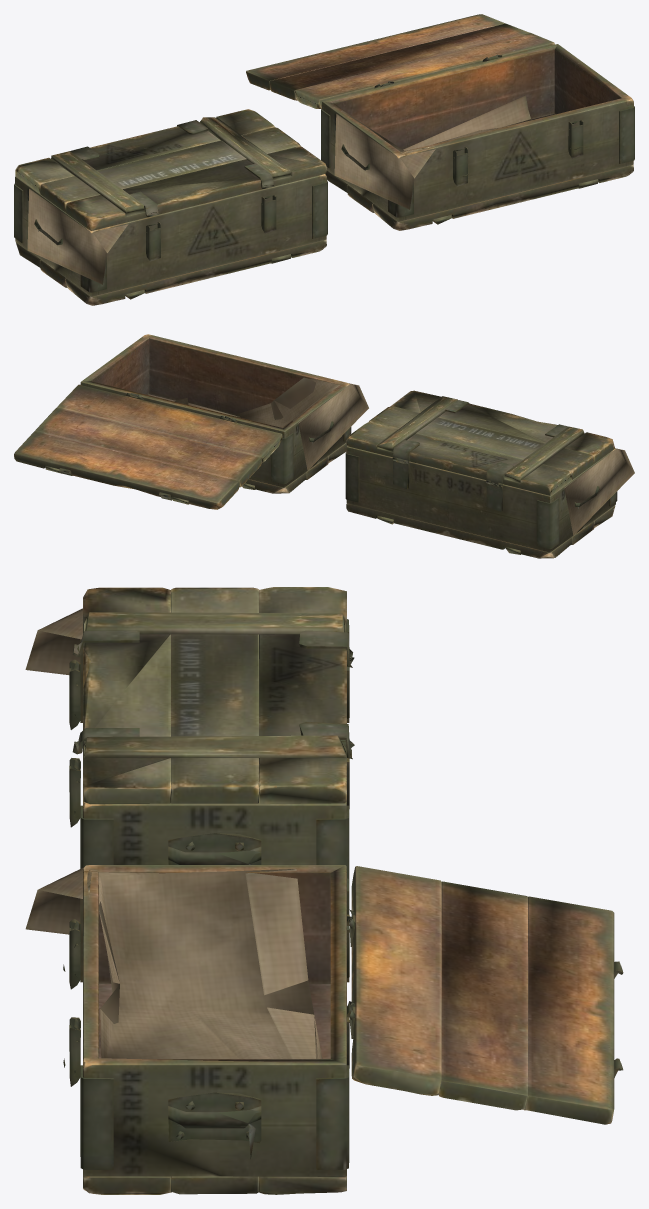
File: old_military_crate.glb
3 views of the same model, one above another, from view 1: azimuth 30°, elevation 25°; view 2: azimuth 150°, elevation 25°; view 3: azimuth 270°, elevation 25° (orthographic). The views are drawn at different scales.
Parts seen in each view (by area): view 1: old_military_crate_b, old_military_crate_lid_a, old_military_crate_a, old_military_crate_lid_b, old_military_crate_cloth_b, old_military_crate_cloth_a, old_military_crate_latch_a, old_military_crate_latch_b; view 2: old_military_crate_lid_b, old_military_crate_a, old_military_crate_lid_a, old_military_crate_b, old_military_crate_cloth_b, old_military_crate_cloth_a; view 3: old_military_crate_lid_a, old_military_crate_lid_b, old_military_crate_b, old_military_crate_cloth_b, old_military_crate_a, old_military_crate_cloth_a, old_military_crate_latch_b, old_military_crate_latch_a.
Part boxes in pixels (<box>): old_military_crate_b: <box>321,44,634,230</box>; old_military_crate_lid_a: <box>15,109,326,230</box>; old_military_crate_a: <box>14,174,327,305</box>; old_military_crate_lid_b: <box>246,14,554,109</box>; old_military_crate_cloth_b: <box>334,95,531,209</box>; old_military_crate_cloth_a: <box>27,189,128,284</box>; old_military_crate_latch_a: <box>146,195,276,261</box>; old_military_crate_latch_b: <box>453,120,583,186</box>; old_military_crate_lid_b: <box>14,384,282,509</box>; old_military_crate_a: <box>345,446,617,558</box>; old_military_crate_lid_a: <box>346,390,615,495</box>; old_military_crate_b: <box>80,334,351,493</box>; old_military_crate_cloth_b: <box>174,377,368,470</box>; old_military_crate_cloth_a: <box>564,448,634,535</box>; old_military_crate_lid_a: <box>72,587,354,804</box>; old_military_crate_lid_b: <box>347,866,623,1124</box>; old_military_crate_b: <box>80,865,352,1194</box>; old_military_crate_cloth_b: <box>25,865,322,1058</box>; old_military_crate_a: <box>80,619,354,883</box>; old_military_crate_cloth_a: <box>25,608,82,674</box>; old_military_crate_latch_b: <box>69,919,80,1086</box>; old_military_crate_latch_a: <box>69,659,80,827</box>.
Bounding box in the file's own units: 1.81 × 0.2971 × 0.9744.
10 materials, 10 textured.
